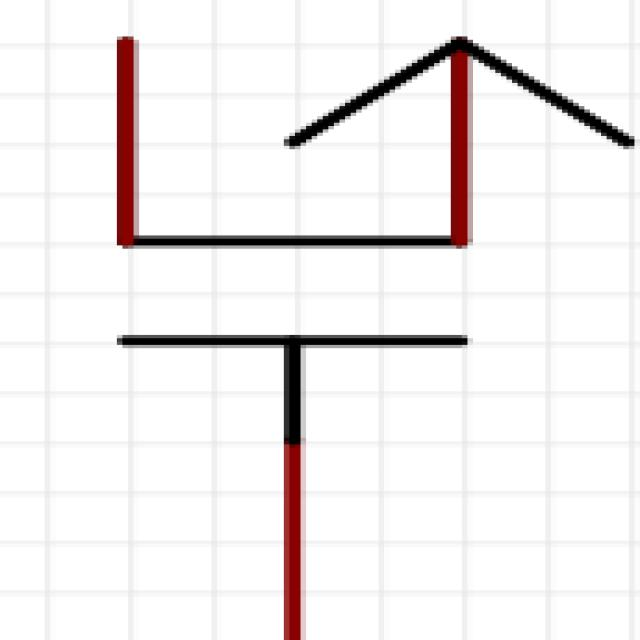nmos: (60, 22, 640, 621)
